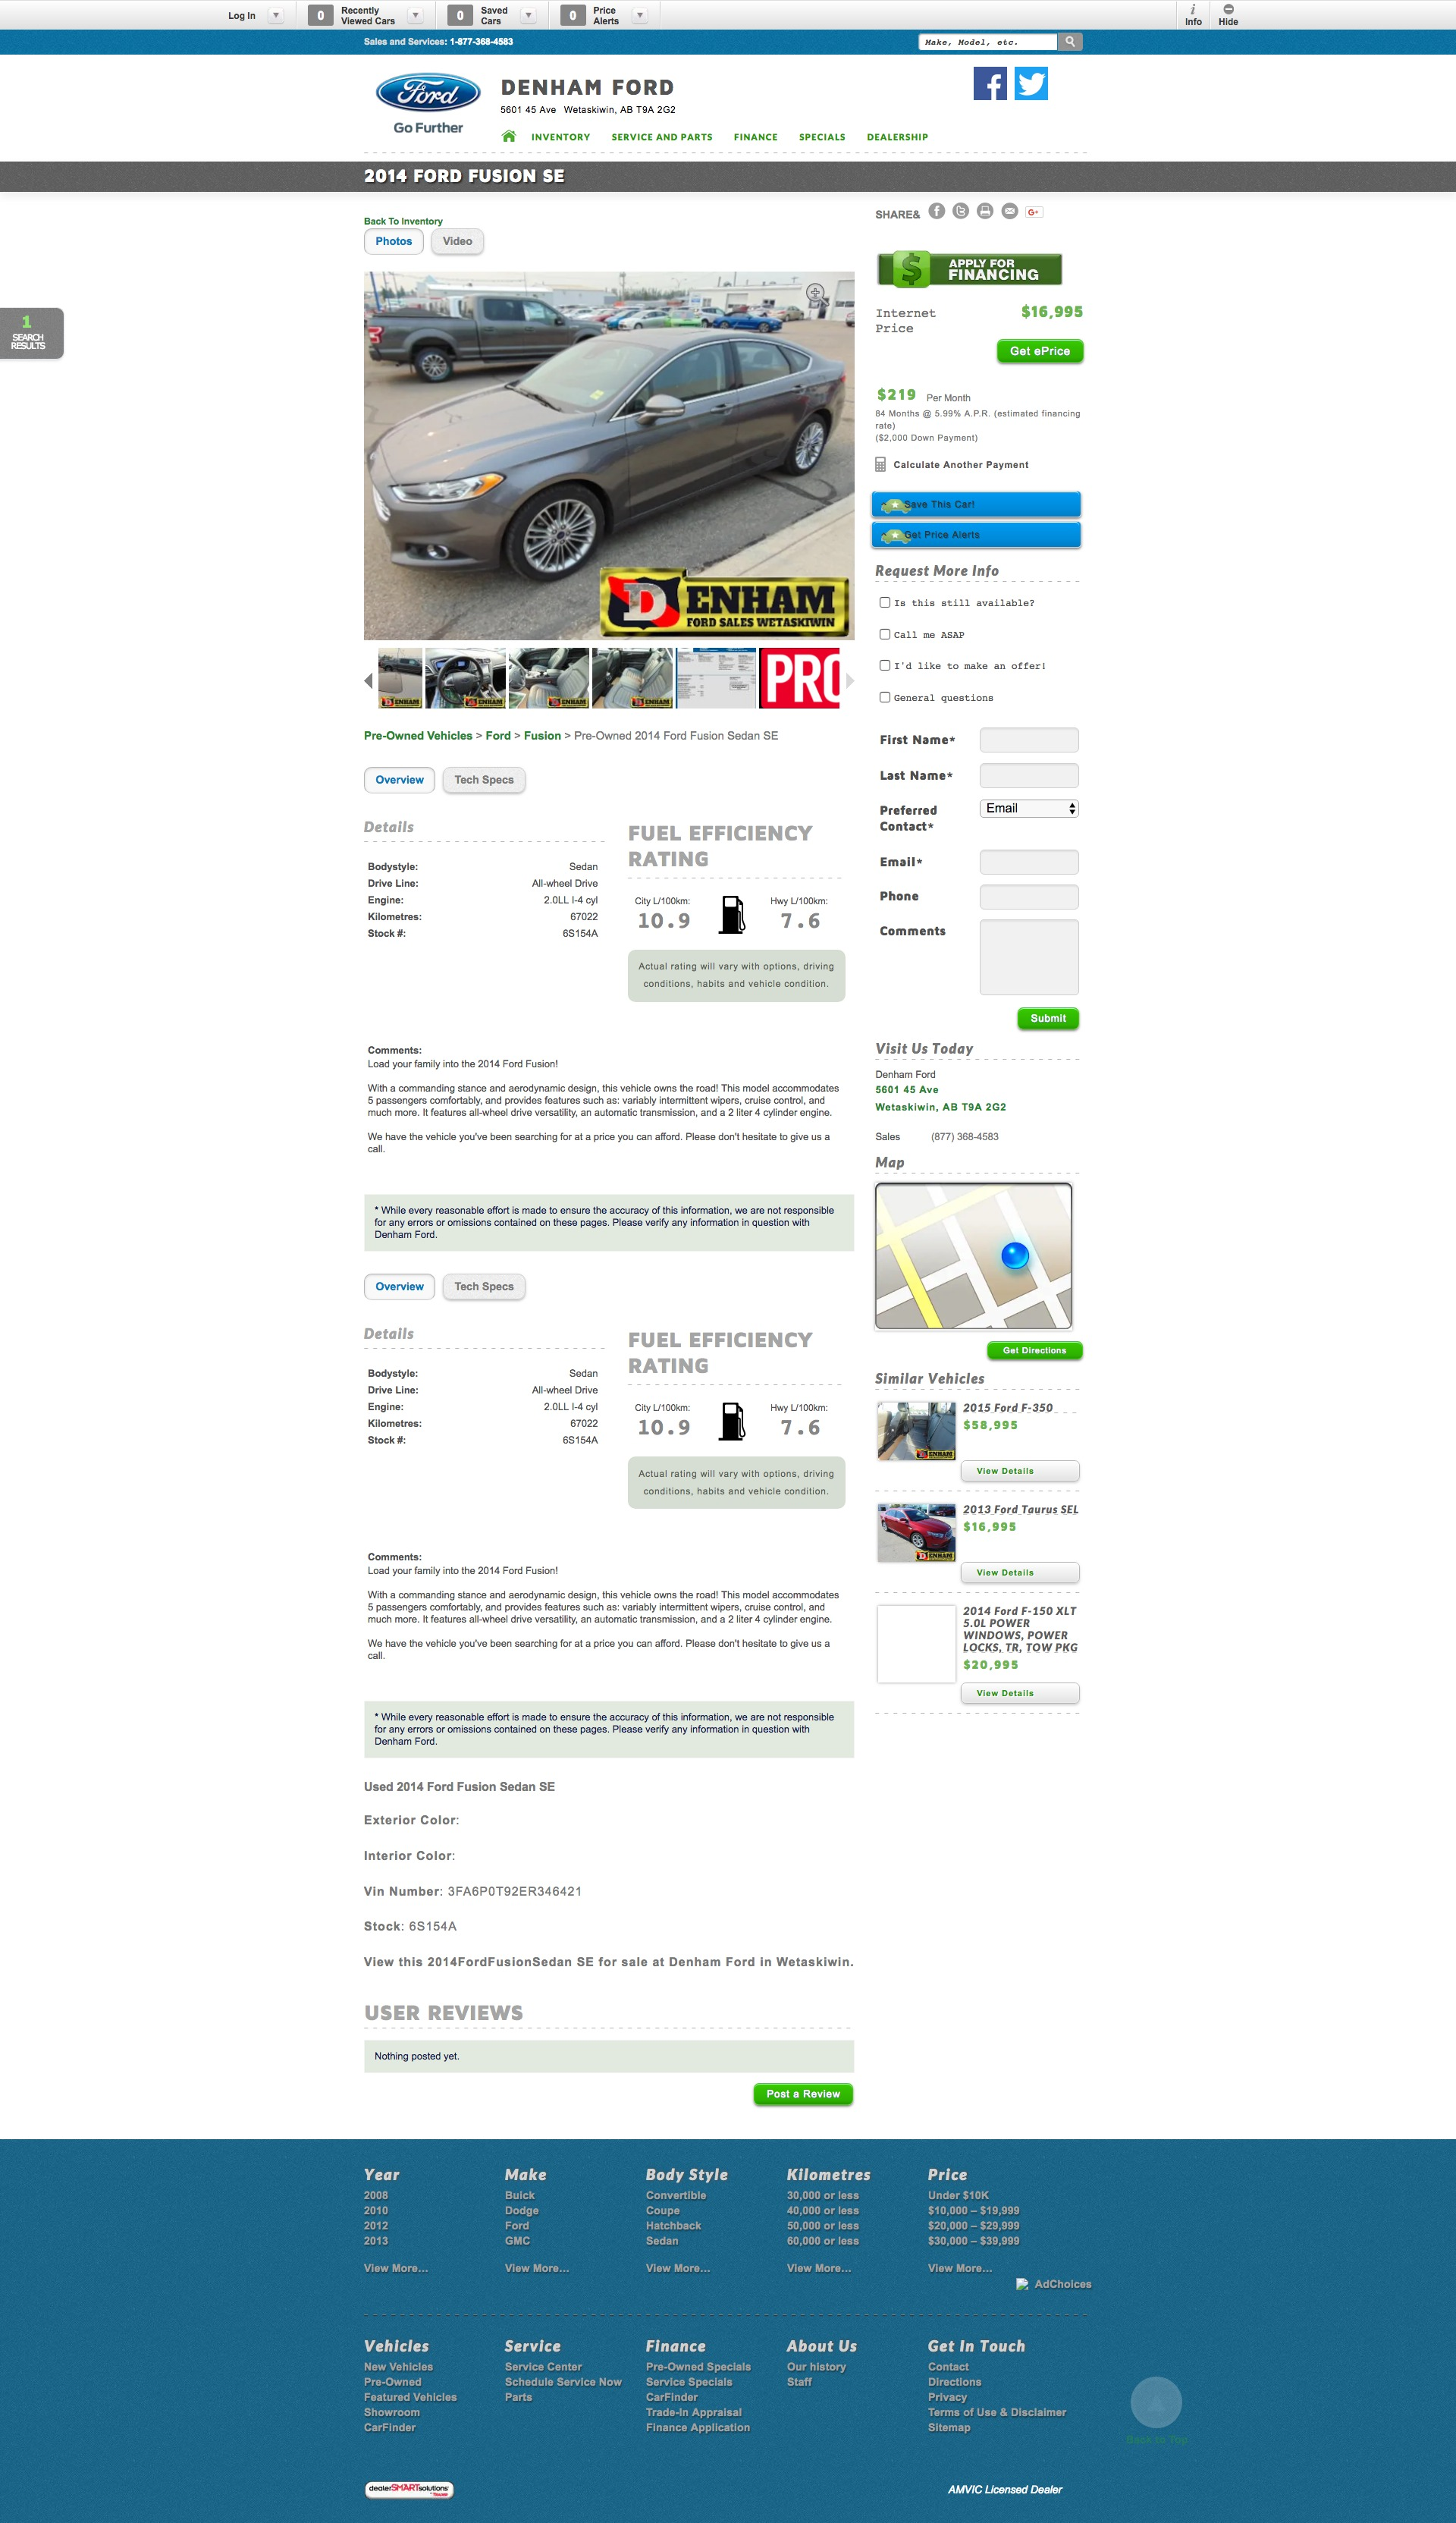car: (846, 671, 856, 692)
